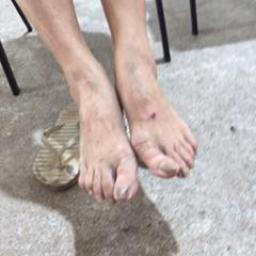Front View -Both Feet-: (46, 47, 208, 218)
